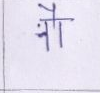ai_matra: (38, 3, 60, 18)
